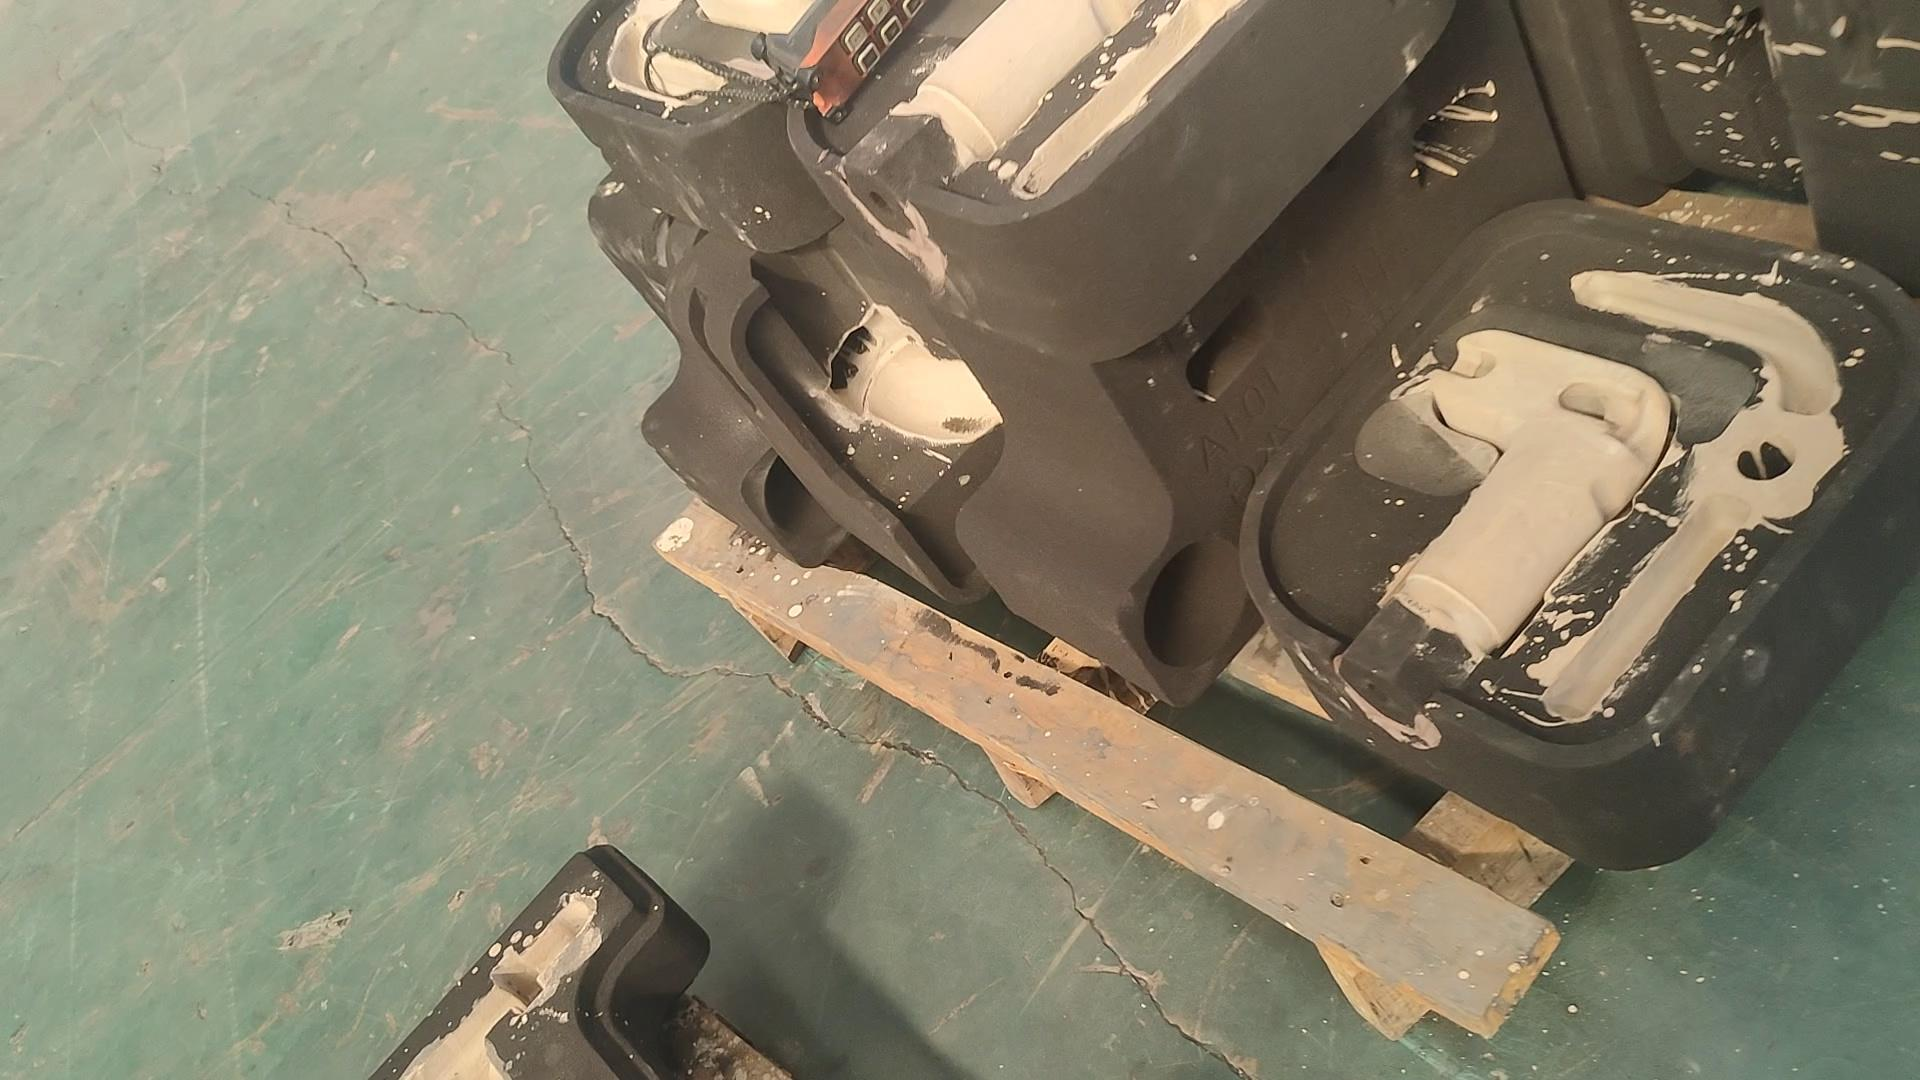pouring hole: (1145, 535, 1250, 665), (765, 438, 865, 537)
